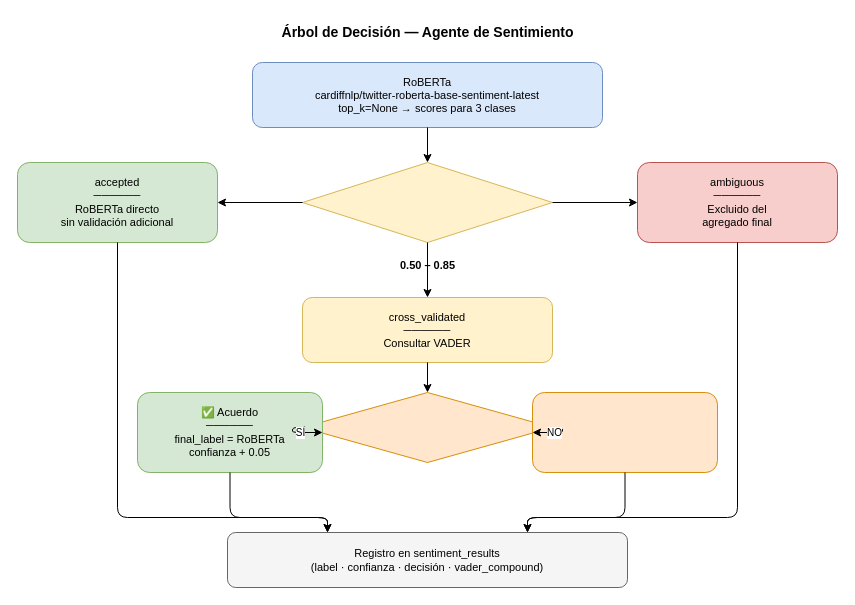
Some shapes in this 855 by 605 pixel diagram are drawn without their labels. The shapes that lost their labels are listed below. From the top down, each one's centre as x and y in pixels, then its label:
point 427,202: confianza de la clase ganadora
point 427,427: ¿RoBERTa == VADER?
point 625,432: ⚠️ Discrepancia ────── final_label = RoBERTa VADER como evidencia
